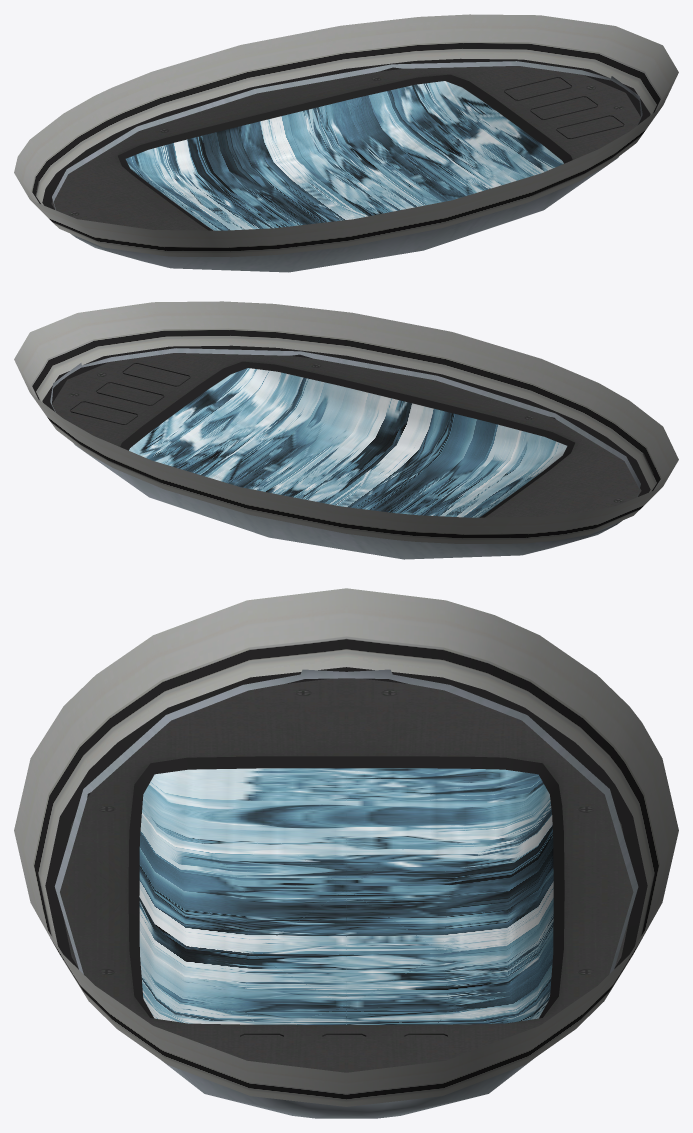
File: nt_tv_wall_LOD2.obj
The picture shows the model from 3 angles, top to bottom: view 1: azimuth 30°, elevation 25°; view 2: azimuth 150°, elevation 25°; view 3: azimuth 270°, elevation 25°; orthographic projection. The views are drawn at different scales.
Visible parts, largest first — view 1: mtl_nt_tv_wall, mtl_nt_2020_screen_animated_01, glass_clear_mp_model; view 2: mtl_nt_tv_wall, mtl_nt_2020_screen_animated_01, glass_clear_mp_model; view 3: mtl_nt_tv_wall, mtl_nt_2020_screen_animated_01, glass_clear_mp_model.
Part boxes in pixels (<box>): mtl_nt_tv_wall: <box>14,14,678,257</box>; mtl_nt_2020_screen_animated_01: <box>125,81,563,230</box>; glass_clear_mp_model: <box>52,61,642,272</box>; mtl_nt_tv_wall: <box>14,301,678,543</box>; mtl_nt_2020_screen_animated_01: <box>129,368,567,517</box>; glass_clear_mp_model: <box>50,348,640,559</box>; mtl_nt_tv_wall: <box>14,588,678,1106</box>; mtl_nt_2020_screen_animated_01: <box>139,768,553,1024</box>; glass_clear_mp_model: <box>54,669,638,1118</box>.
Bounding box in the file's own units: 169 × 24.82 × 98.09.
